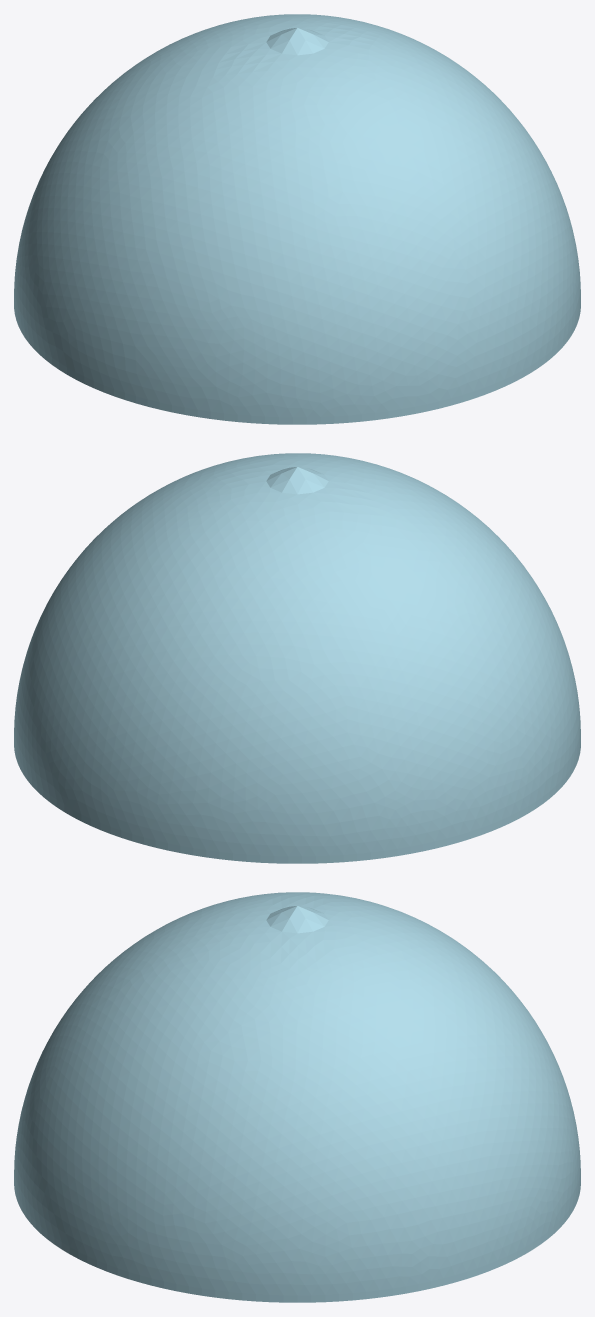
File: config_test_2_with_density.obj
3 renders of one model, top to bottom at view 1: azimuth 30°, elevation 25°; view 2: azimuth 150°, elevation 25°; view 3: azimuth 270°, elevation 25°, orthographic.
Parts seen in each view (by area): view 1: grp1; view 2: grp1; view 3: grp1.
Boxes of the visible parts, bbox=[...] form: grp1: bbox=[14, 14, 580, 424]; grp1: bbox=[14, 453, 580, 863]; grp1: bbox=[14, 892, 580, 1302].
Bounding box in the file's own units: 0.14 × 0.0755 × 0.14.
